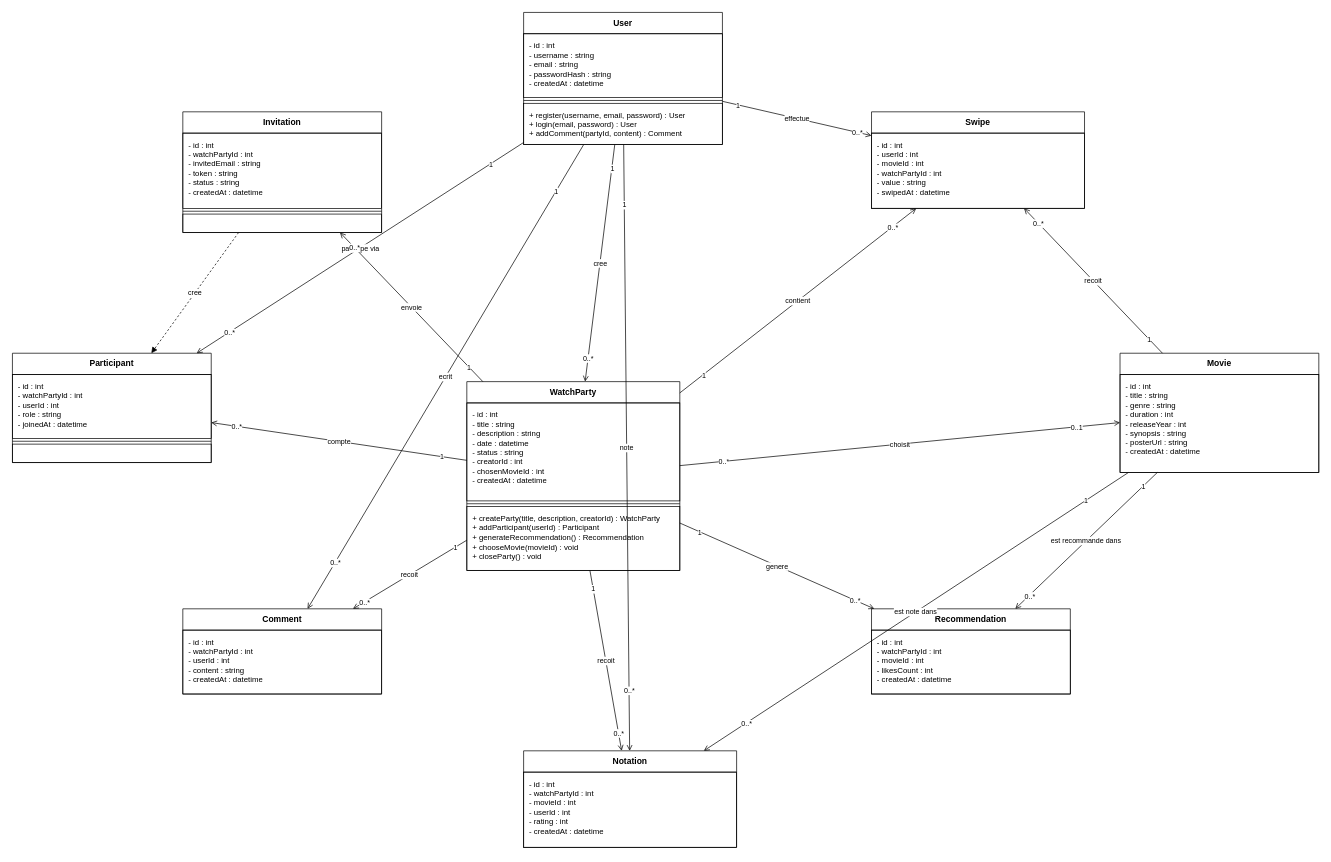
Some shapes in this 1331 by 862 pixel diagram are drawn without their labels. Here are the shapes that lost their labels. From the top down, the centre of each, then its label:
(282,223): + acceptInvitation(userId) : Participant
(111,453): + addSwipe(movieId, value) : Swipe
